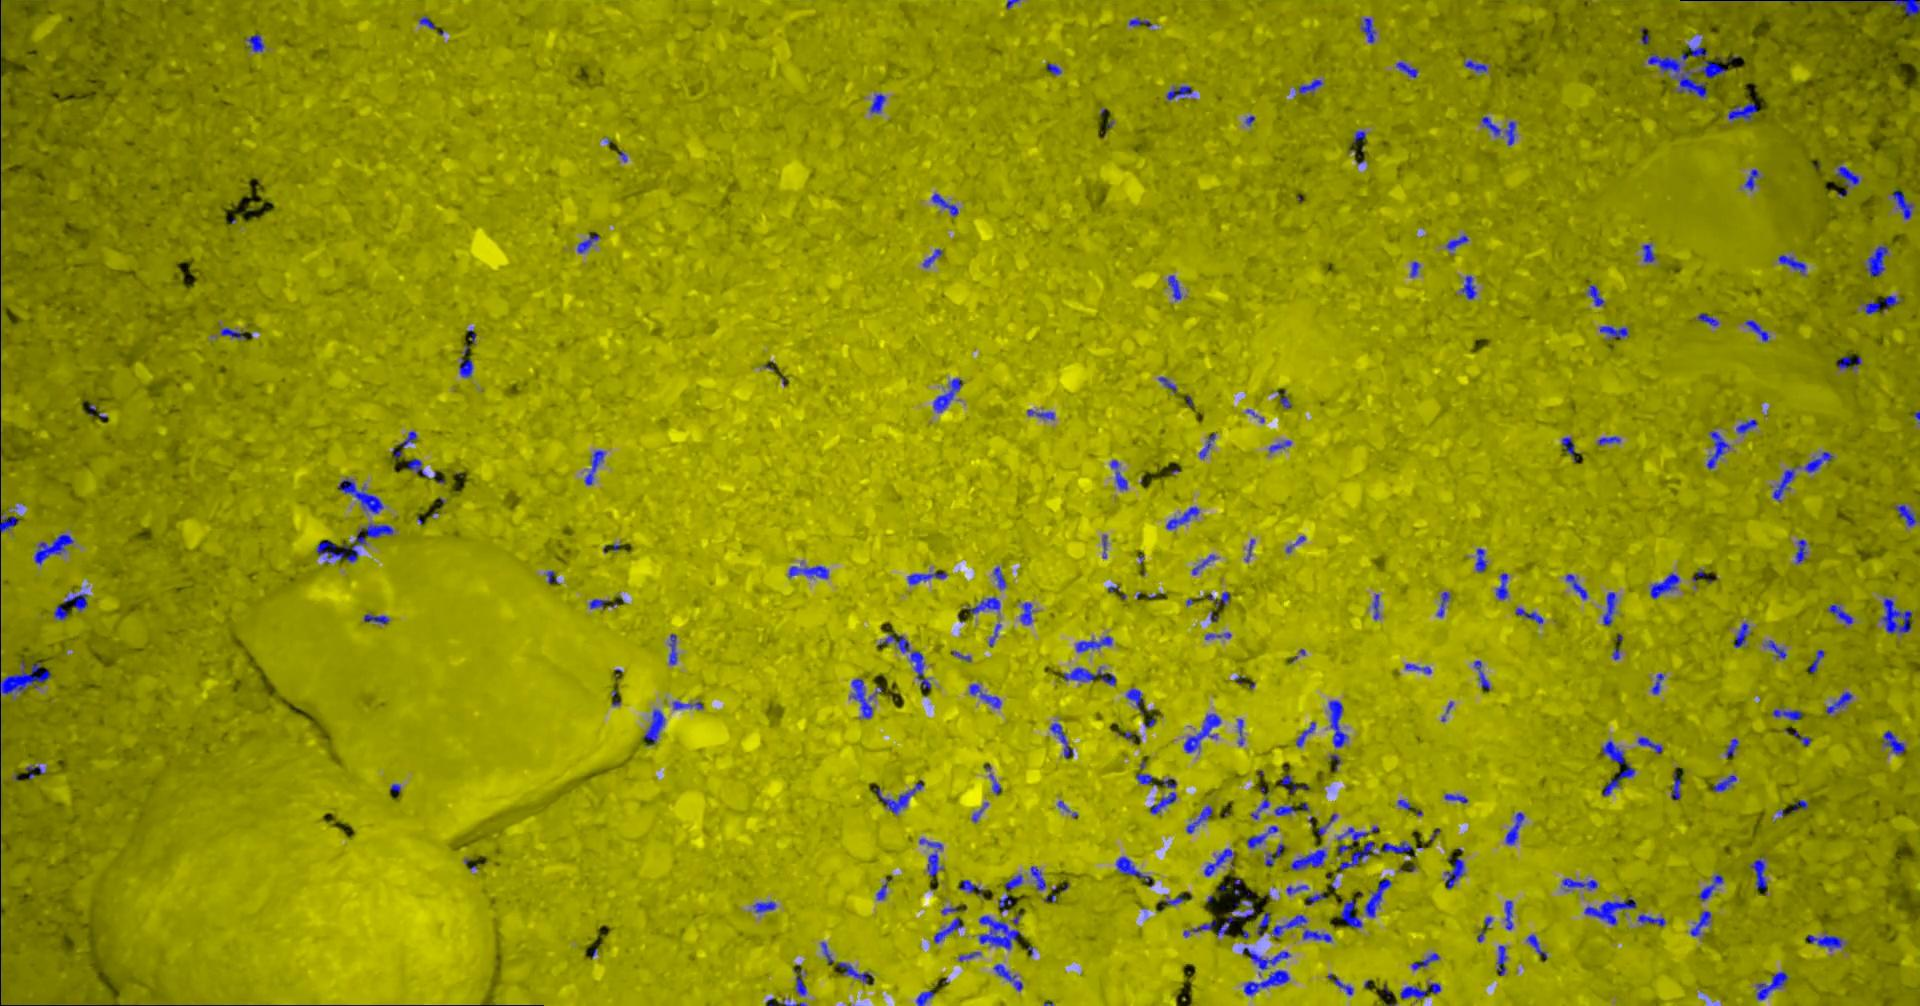ant: (315, 523, 392, 563), (877, 633, 930, 688), (1647, 53, 1705, 97), (1787, 0, 1919, 17), (1601, 741, 1634, 795), (1217, 890, 1255, 935), (0, 661, 50, 694), (337, 478, 382, 513), (875, 780, 922, 814), (1583, 895, 1636, 925), (1183, 713, 1220, 752), (978, 915, 1018, 949), (850, 678, 883, 718), (1688, 44, 1726, 77), (34, 533, 72, 564), (1115, 856, 1153, 887), (1243, 969, 1289, 995), (1338, 840, 1377, 869), (1881, 598, 1912, 633), (1364, 878, 1390, 917), (1242, 948, 1289, 969), (1481, 116, 1515, 145), (932, 379, 961, 412), (1062, 667, 1115, 685), (1756, 970, 1788, 1000), (1705, 431, 1730, 469), (1149, 779, 1176, 813), (1328, 700, 1347, 747), (1049, 721, 1073, 758), (1203, 848, 1233, 876), (1270, 915, 1307, 937), (836, 962, 872, 984), (1771, 467, 1796, 500), (1164, 506, 1199, 528), (1650, 572, 1679, 598), (993, 963, 1022, 989), (643, 709, 664, 744), (1290, 848, 1326, 870), (969, 683, 1001, 708), (933, 917, 963, 942), (1246, 826, 1277, 848), (1863, 295, 1903, 312), (584, 450, 604, 485), (1186, 805, 1211, 833), (1835, 166, 1859, 196), (1399, 982, 1440, 998), (1338, 899, 1361, 929), (1865, 245, 1887, 276), (931, 192, 957, 216), (1698, 874, 1722, 901), (1891, 189, 1912, 218), (1250, 786, 1269, 819), (1444, 857, 1464, 888), (1564, 573, 1587, 600), (1825, 691, 1851, 714), (1806, 932, 1843, 949), (1804, 451, 1832, 473), (1280, 774, 1309, 794), (1076, 635, 1111, 652), (1505, 810, 1523, 843), (1749, 855, 1766, 888), (1727, 102, 1757, 121), (1109, 459, 1128, 489), (968, 596, 999, 614), (1895, 503, 1919, 526), (1882, 730, 1905, 754), (1689, 909, 1710, 935), (1327, 973, 1352, 995), (1778, 254, 1804, 274), (1411, 951, 1439, 970), (1183, 920, 1215, 936), (1745, 319, 1769, 340), (1191, 554, 1217, 574), (789, 565, 828, 578), (907, 572, 946, 584), (1295, 721, 1316, 746), (1603, 591, 1617, 625), (1197, 432, 1215, 459), (1561, 878, 1597, 890), (577, 232, 599, 253), (458, 344, 472, 377), (1473, 661, 1490, 688), (1336, 827, 1369, 841), (1379, 841, 1412, 855), (1827, 605, 1851, 624), (1561, 436, 1578, 461), (927, 852, 943, 879), (1263, 843, 1283, 866), (1526, 934, 1545, 956), (1125, 688, 1143, 713), (1712, 774, 1736, 791), (1637, 737, 1662, 753), (1317, 813, 1336, 835), (1515, 607, 1542, 622), (1294, 79, 1322, 93), (1360, 17, 1375, 42), (922, 248, 942, 267), (1765, 639, 1785, 658), (1476, 916, 1491, 941), (63, 593, 86, 610), (1166, 85, 1192, 99), (1302, 929, 1331, 941), (1733, 622, 1749, 647), (244, 33, 264, 51), (0, 511, 18, 531), (1396, 61, 1417, 77), (1599, 325, 1627, 338), (792, 969, 806, 995), (1743, 168, 1759, 191), (1445, 235, 1468, 250), (1460, 276, 1476, 298), (1837, 354, 1860, 370), (1808, 649, 1823, 672), (1030, 866, 1045, 889), (959, 879, 982, 894), (1496, 945, 1507, 976), (408, 459, 427, 476), (1495, 573, 1507, 600), (1463, 58, 1487, 72), (1771, 708, 1801, 719), (1587, 285, 1603, 306), (875, 878, 890, 899), (1436, 591, 1449, 616), (1256, 911, 1269, 936), (1167, 276, 1181, 298), (1735, 419, 1757, 433), (1637, 915, 1665, 926), (869, 93, 885, 112), (1670, 772, 1681, 799), (1697, 312, 1718, 326), (1018, 602, 1032, 624), (1158, 376, 1176, 392), (1004, 874, 1022, 890), (220, 326, 245, 338), (397, 431, 417, 446), (1269, 439, 1291, 452), (992, 567, 1004, 589), (1158, 893, 1183, 904), (916, 989, 935, 1005), (1026, 409, 1054, 419), (1352, 130, 1365, 151), (1404, 663, 1431, 673), (1792, 730, 1810, 746), (1641, 243, 1655, 262), (1724, 738, 1738, 757), (752, 901, 775, 912), (363, 614, 389, 624), (1651, 673, 1663, 694), (1503, 901, 1512, 929), (1796, 539, 1806, 563), (1476, 547, 1486, 572), (668, 633, 676, 664), (672, 701, 703, 709), (1307, 892, 1326, 904), (998, 893, 1011, 912), (1597, 434, 1620, 445), (919, 838, 942, 848), (25, 765, 42, 779), (418, 17, 436, 29), (1272, 805, 1294, 815), (1128, 17, 1152, 25), (1215, 591, 1229, 606), (1444, 793, 1467, 801), (53, 605, 67, 619), (1286, 885, 1308, 894), (1790, 799, 1807, 810), (1371, 594, 1379, 619), (589, 598, 607, 608), (1237, 718, 1243, 746), (1135, 772, 1152, 782), (1046, 64, 1062, 74)
